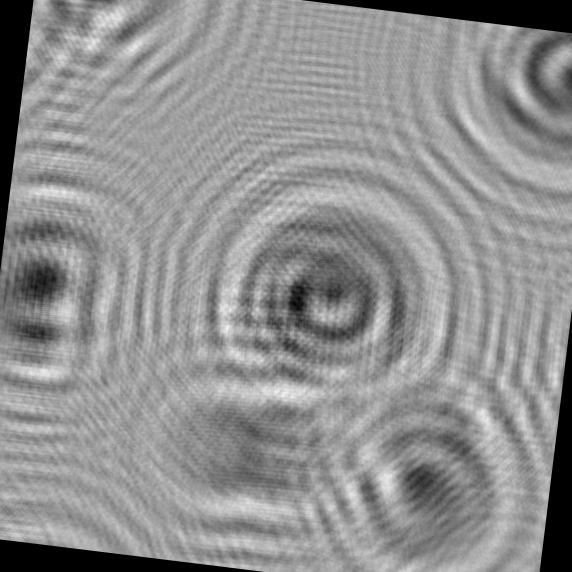F: (0, 168, 167, 443)
G: (182, 141, 485, 451), (426, 17, 572, 203)
I: (93, 339, 409, 572)
J: (285, 342, 563, 572), (20, 0, 235, 124)
